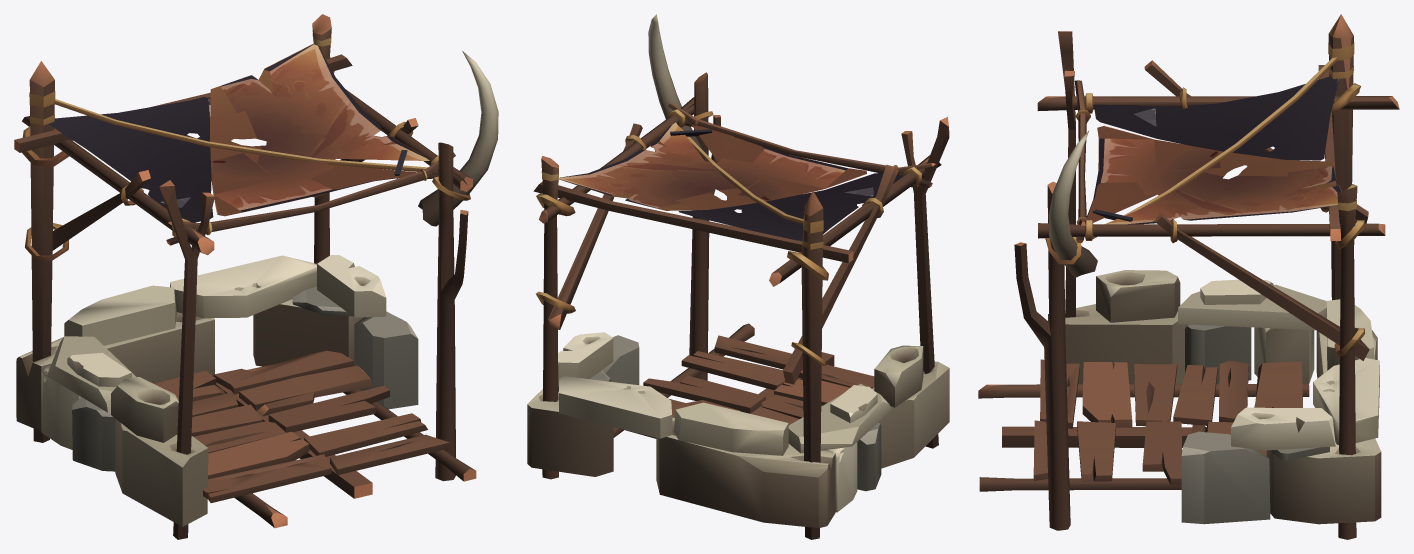
File: Stockpile_1A.fbx
3 renders of one model, left to right at view 1: azimuth 30°, elevation 25°; view 2: azimuth 150°, elevation 25°; view 3: azimuth 270°, elevation 25°, orthographic. The views are drawn at different scales.
Parts seen in each view (by area): view 1: Stockpile_1A; view 2: Stockpile_1A; view 3: Stockpile_1A.
Part boxes in pixels (box(x1,y1,x2,y2)): Stockpile_1A: box(14, 14, 498, 539); Stockpile_1A: box(527, 14, 949, 539); Stockpile_1A: box(978, 14, 1399, 539).
Size of the model in its own units: 5.55 by 6.18 by 5.73.
